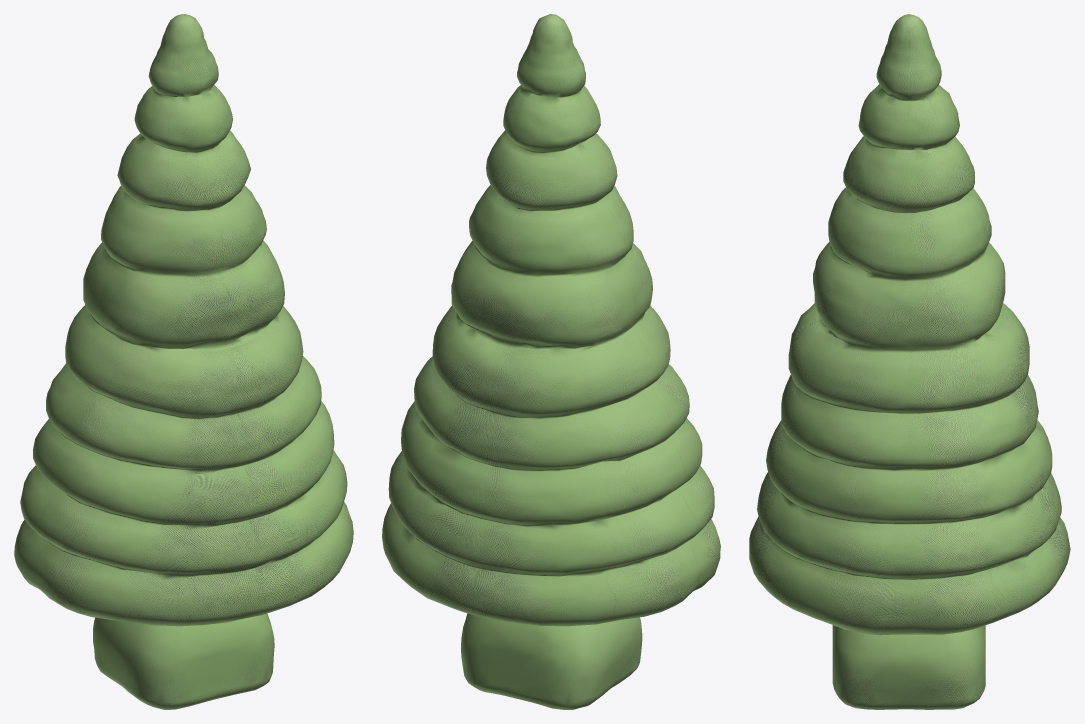
File: soft_pine.glb
3 renders of one model, left to right at view 1: azimuth 30°, elevation 25°; view 2: azimuth 150°, elevation 25°; view 3: azimuth 270°, elevation 25°, orthographic.
Size of the model in its own units: 0.8924 by 1.91 by 0.8297.
Materials: 1 (1 with a texture image).
